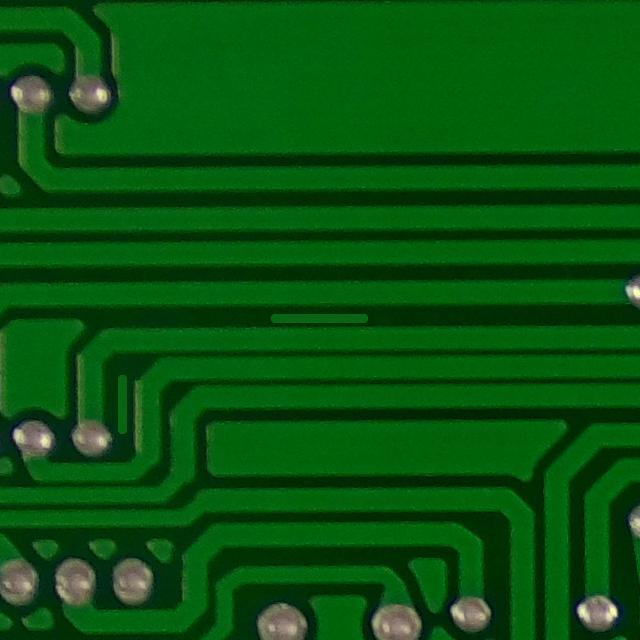spurious_copper: (262, 300, 379, 340)
